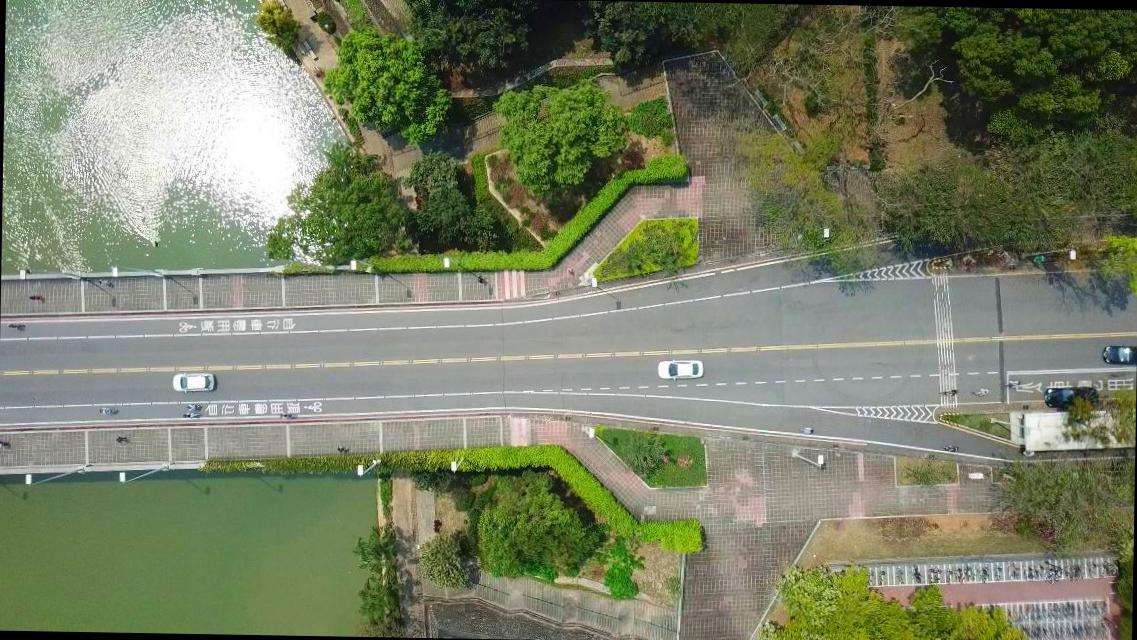vehicle: (1044, 386, 1098, 408), (657, 358, 703, 380), (173, 370, 215, 393), (1102, 343, 1136, 366)
